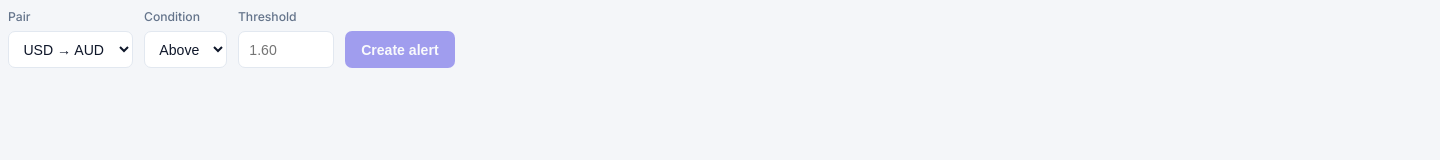
Test: CreateAlertForm › shows a toast when creation fails
Type "1.6" into the field labelled "Threshold".
click(286, 50); type("1.6")  # box [238,31,334,68]
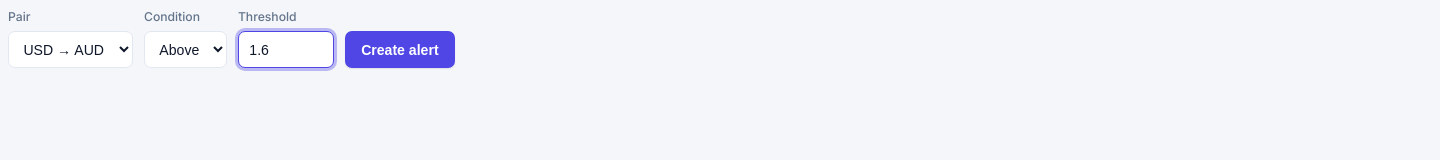
Click the button "Create alert".
click(400, 50)  # box [345,31,455,68]
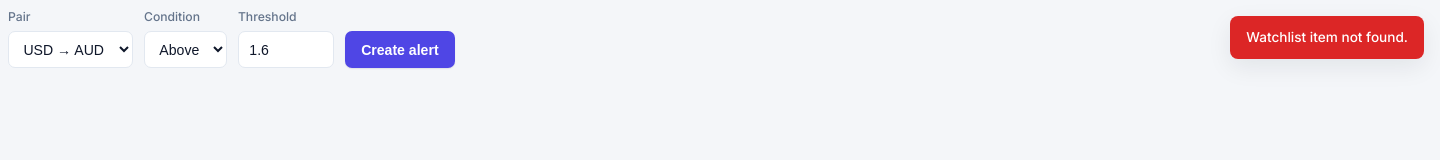
Expected: the message reads "Watchlist item not found.", [1246,29,1408,45]
